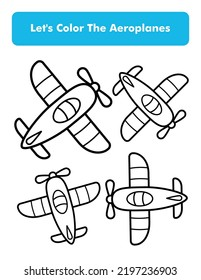airplane: (12, 58, 112, 160), (105, 152, 189, 247), (17, 167, 102, 246), (113, 64, 190, 142)
